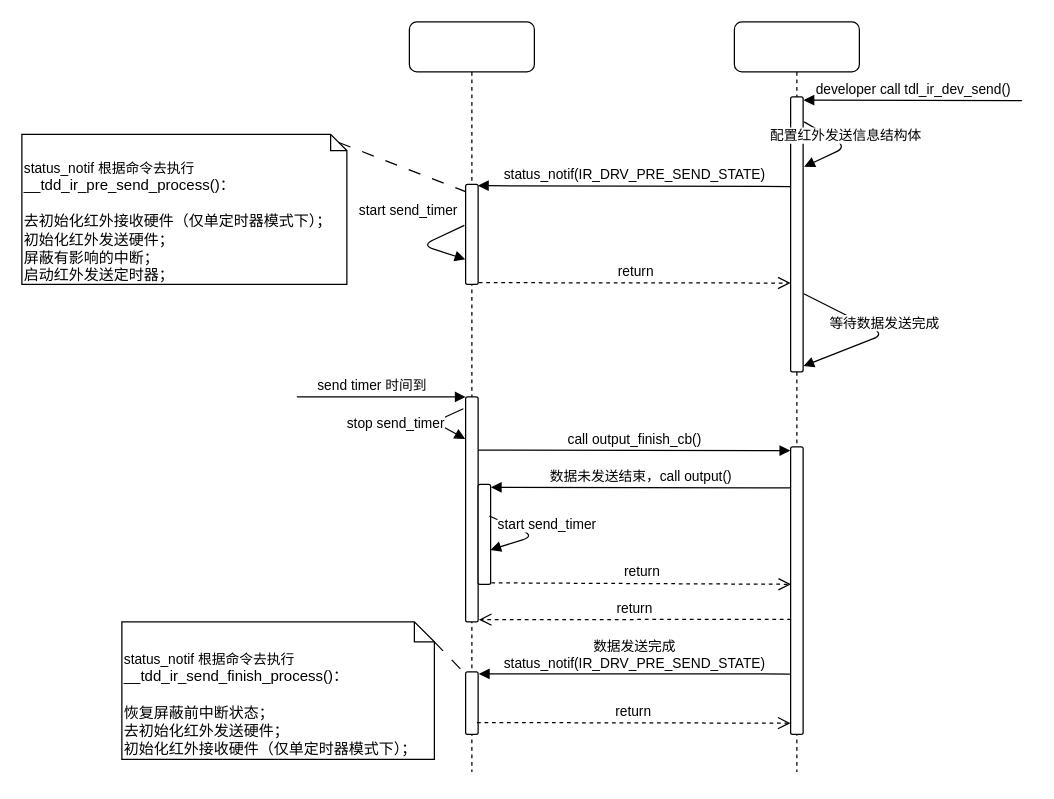
Some shapes in this 1054 by 799 pixel diagram are drawn without their labels. Here are the shapes that lost their labels. From the top down, the box of each, then its label:
(408, 21, 534, 772): tdd_ir_driver
(733, 21, 859, 772): tdl_ir_device
